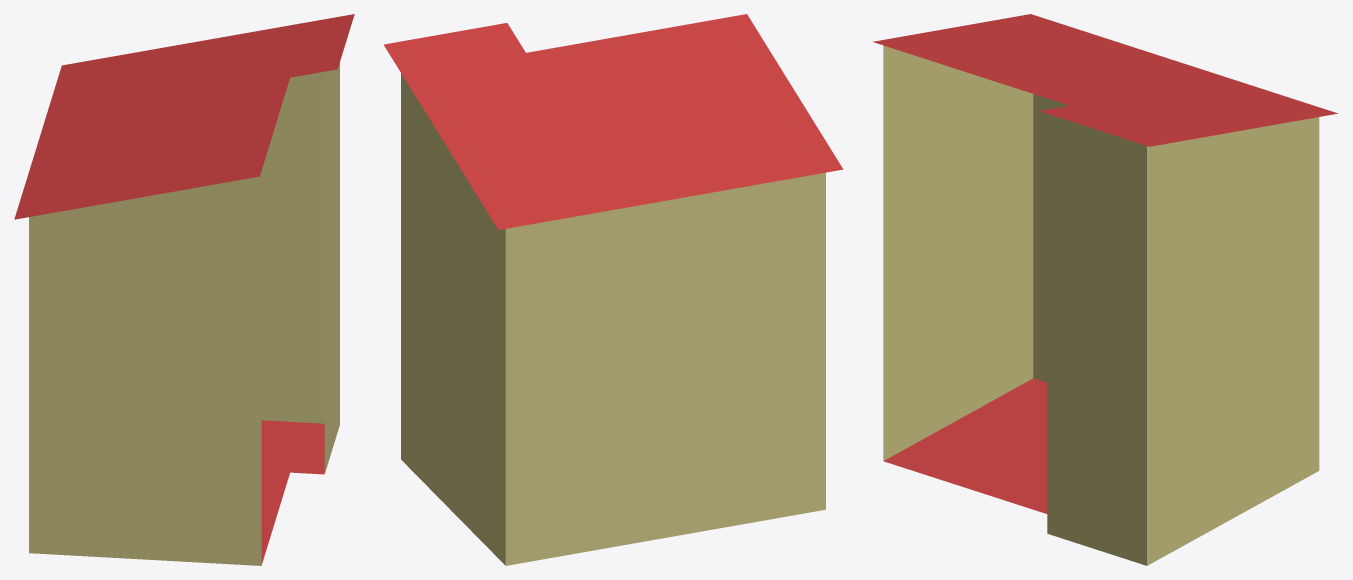
3 renders of one model, left to right at view 1: azimuth 30°, elevation 25°; view 2: azimuth 150°, elevation 25°; view 3: azimuth 270°, elevation 25°, orthographic. The views are drawn at different scales.
Bounding box in the file's own units: 8.75 × 8.45 × 8.54.
